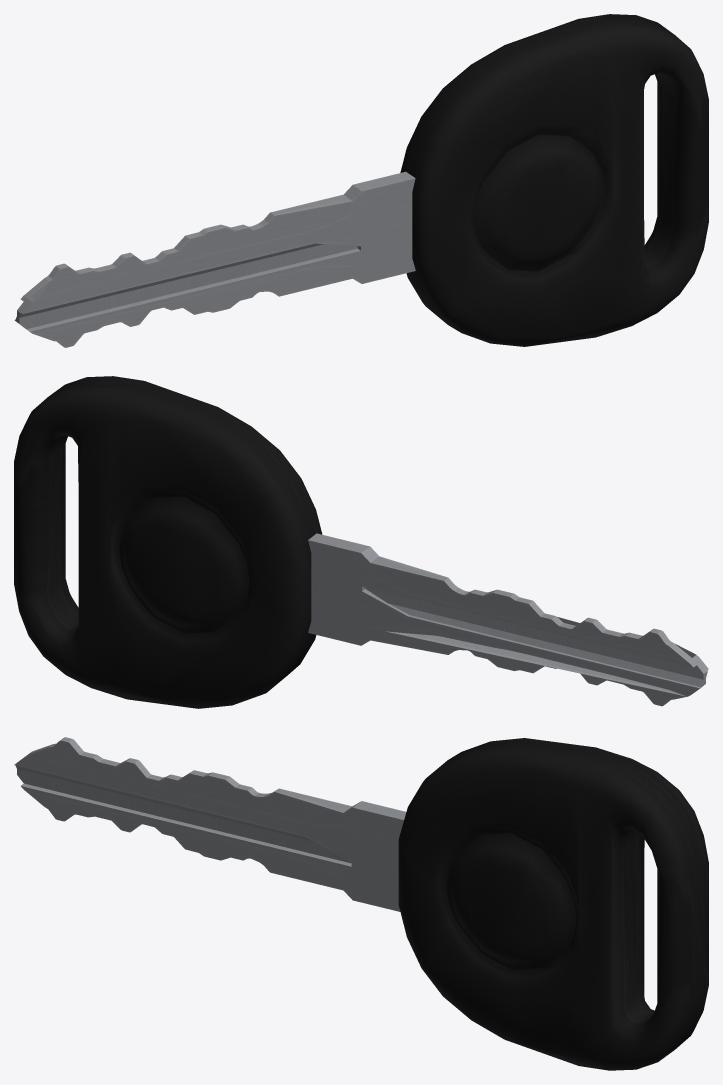
File: key.fbx
The picture shows the model from 3 angles, top to bottom: view 1: azimuth 30°, elevation 25°; view 2: azimuth 150°, elevation 25°; view 3: azimuth 330°, elevation 25°; orthographic projection.
Parts seen in each view (by area): view 1: Cube.002; view 2: Cube.002; view 3: Cube.002.
Part boxes in pixels (left/top/right/bottom): Cube.002: left=14, top=14, right=708, bottom=347; Cube.002: left=14, top=376, right=708, bottom=708; Cube.002: left=14, top=737, right=708, bottom=1070.
Size of the model in its own units: 54.27 by 485 by 210.
1 material, 1 textured.
